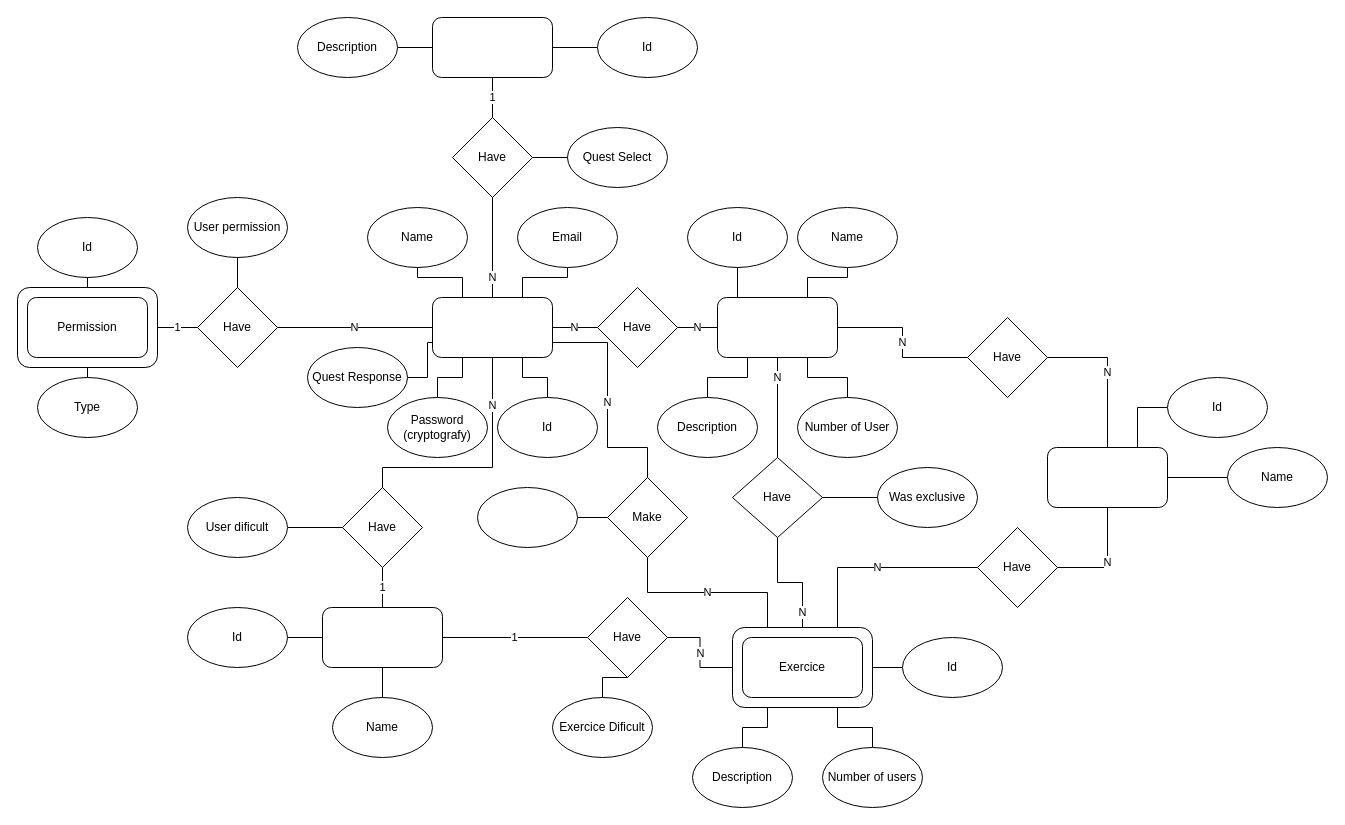
This 1345x825 diagram has some shape labels left out. The shapes that lost their labels are listed below. From the top down, each one's centre as x and y in pixels, then its label:
At point (492, 47): "Questions".
At point (492, 327): "User".
At point (777, 327): "Languages".
At point (1107, 477): "language_type".
At point (527, 517): "Progress in exercice".
At point (382, 637): "Dificult".
